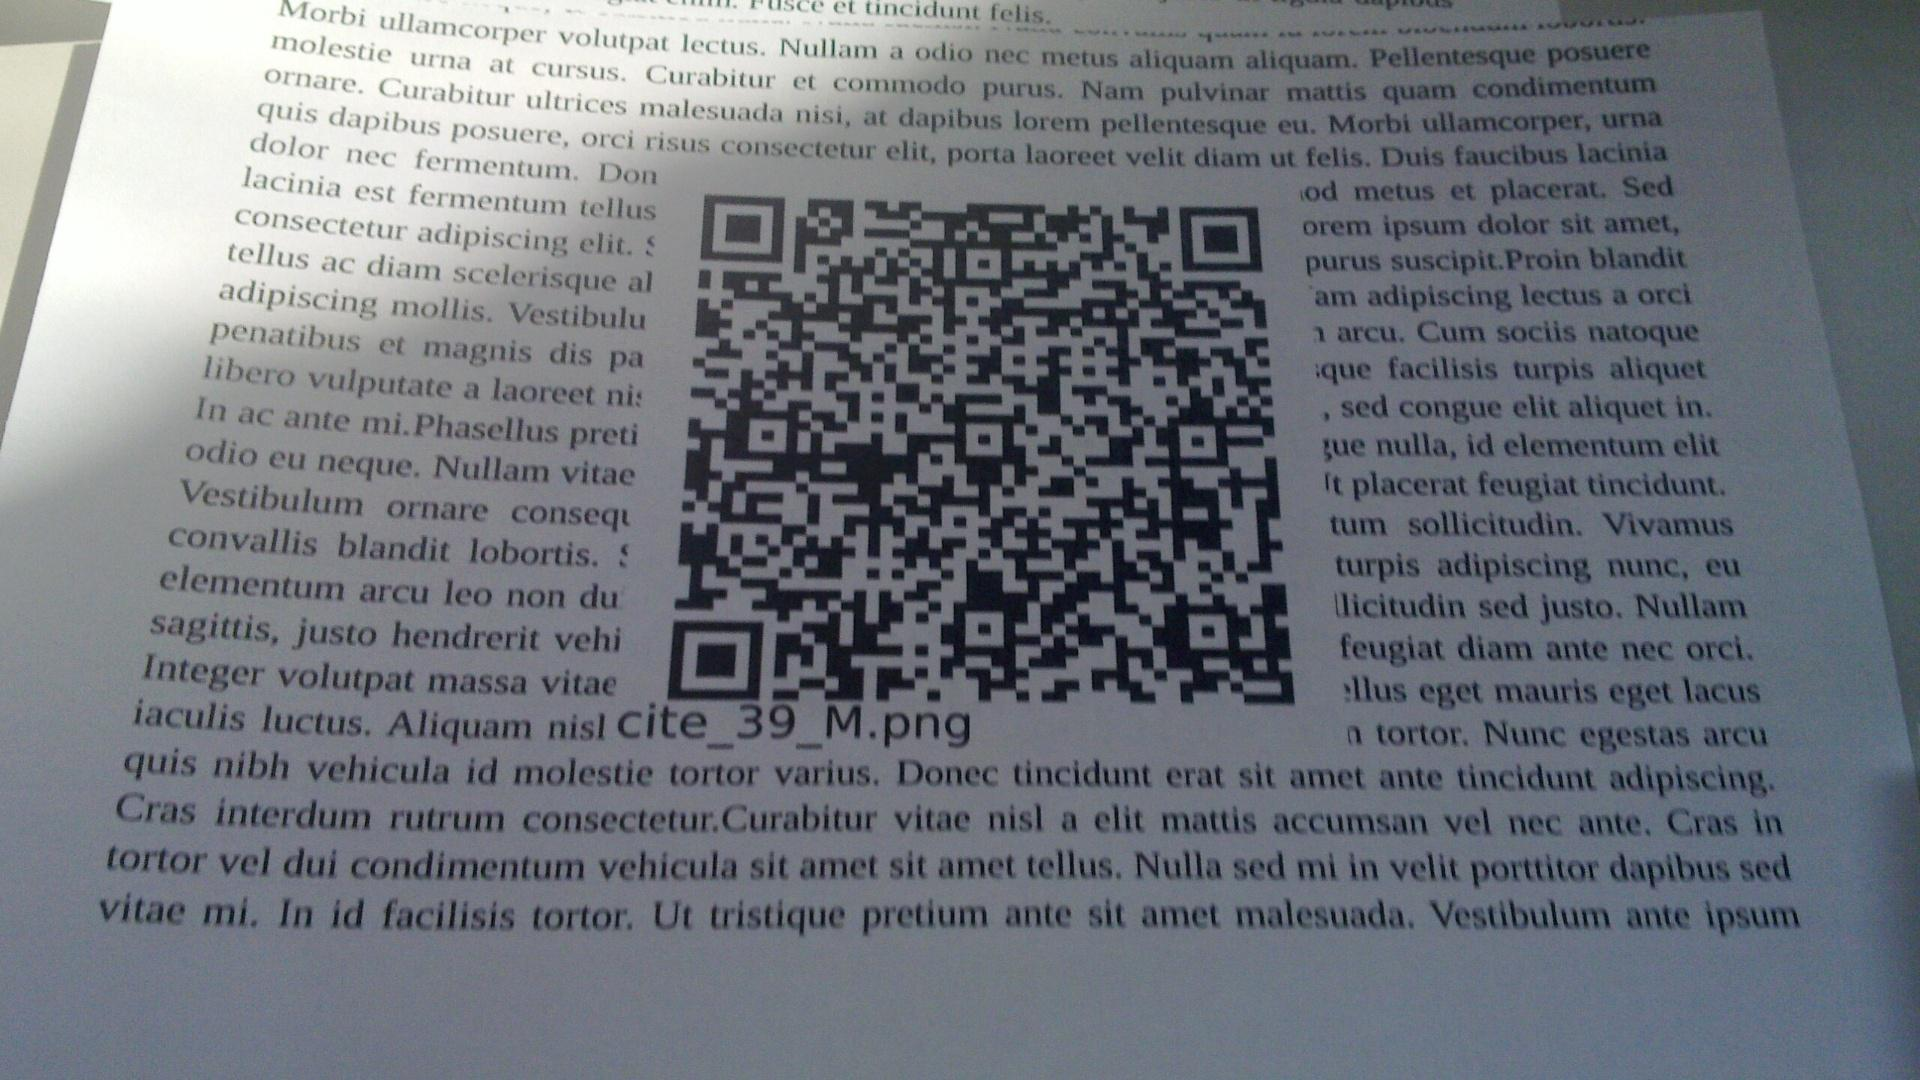Finder pattern: (669, 615, 767, 704), (1171, 196, 1270, 276), (695, 189, 786, 266)
